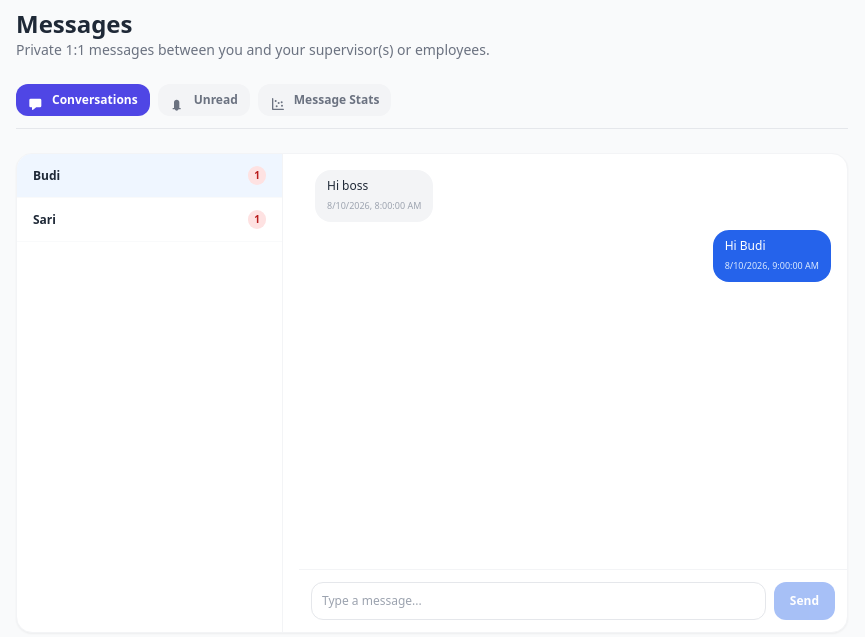
DirectMessagesView › the Message Stats tab shows sent/received counts per contact
The image size is (865, 637).
Click the tab "Message Stats". click: click(325, 100)
box: [258,84,391,116]
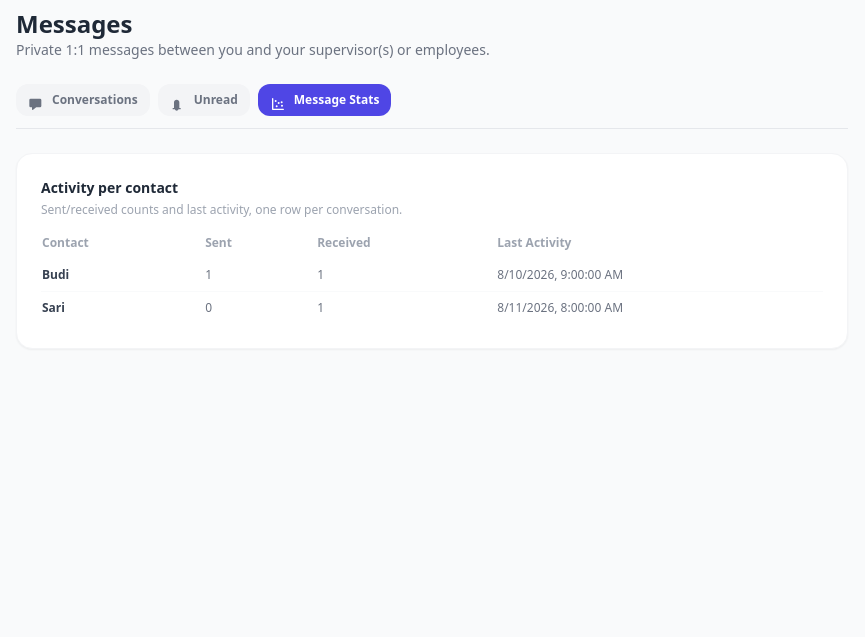
Expected: the text "Budi" is shown, [41,259,204,292]
Expected: the heading "Activity per contact" is shown, [41,178,178,197]
